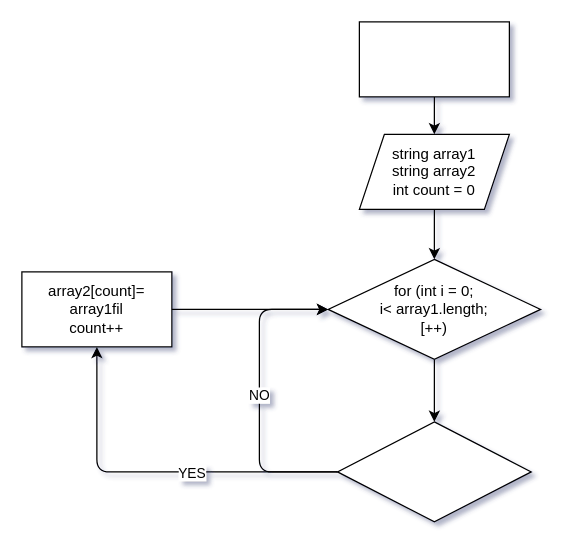
Some shapes in this 570 by 551 pixel diagram are drawn without their labels. The centre of each missing label's shape, as x and y in pixels:
"if (array1(j.length <= 3)" goes at (x=433, y=471).
"SecondArrayWithlf" goes at (x=433, y=59).
